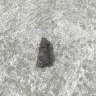Dog: (37, 36, 52, 68)
